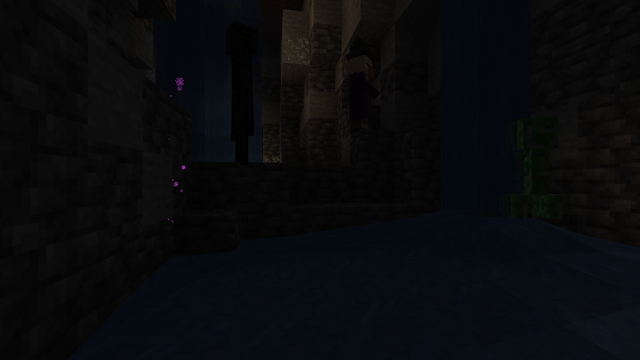creepers: (500, 111, 564, 219)
endermens: (224, 16, 256, 163)
sorcieres: (347, 51, 375, 131)
